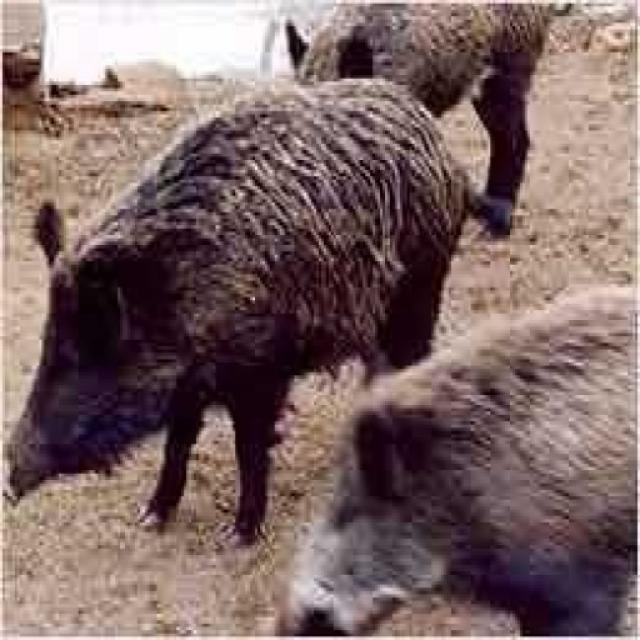pig: (0, 58, 456, 537), (294, 295, 639, 640)
